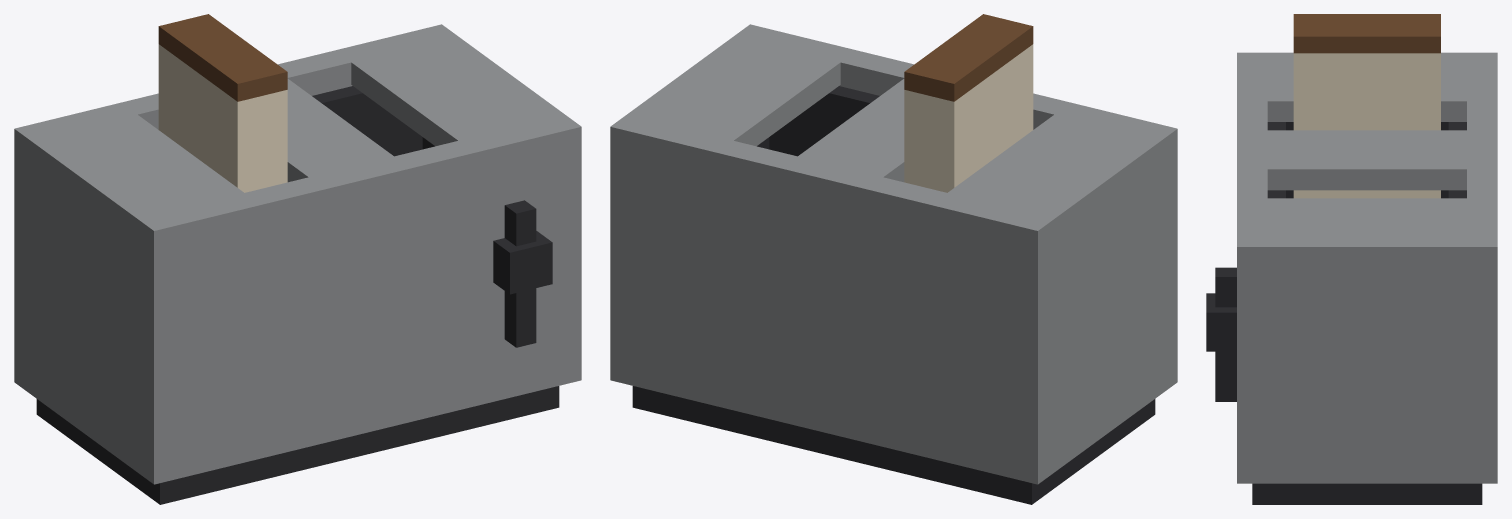
Rendered from FN_Toaster.glb.
3 views of the same model, side by side, from view 1: azimuth 30°, elevation 25°; view 2: azimuth 150°, elevation 25°; view 3: azimuth 270°, elevation 25° (orthographic). The views are drawn at different scales.
Visible parts, largest first — view 1: FN_Toaster; view 2: FN_Toaster; view 3: FN_Toaster.
Part boxes in pixels (<box>): FN_Toaster: <box>14,14,581,504</box>; FN_Toaster: <box>610,14,1177,504</box>; FN_Toaster: <box>1206,14,1497,504</box>.
Size of the model in its own units: 0.3 by 0.255 by 0.19.
1 material, 1 textured.
